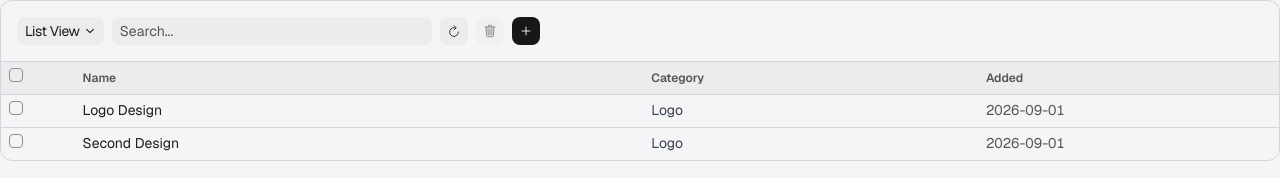
DesignRepository — the toolbar row › reports a ticked count in the table header, and nowhere else
The width and height of the screenshot is (1280, 178).
Click the checkbox named "Select Logo Design": (16, 108) [9, 101, 23, 115]
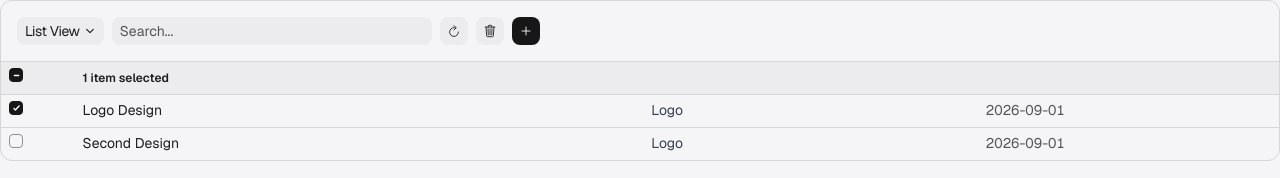
Now the column heading "1 item selected" is shown, box [75, 62, 1279, 94]
